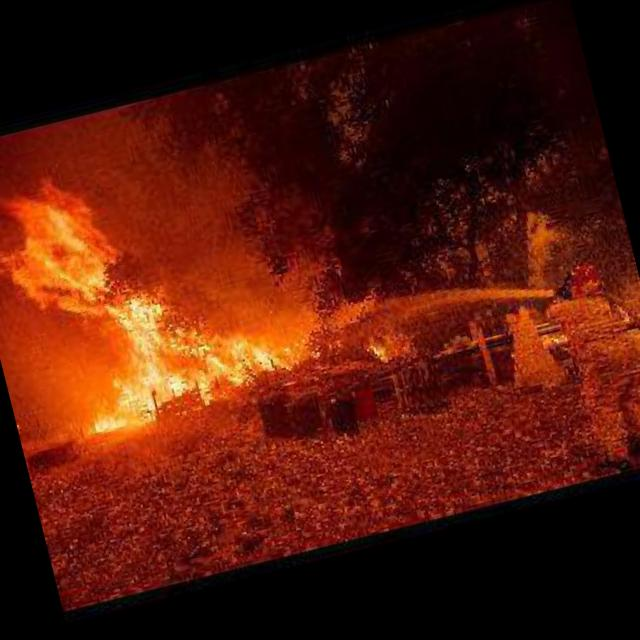fire: (0, 142, 293, 443)
